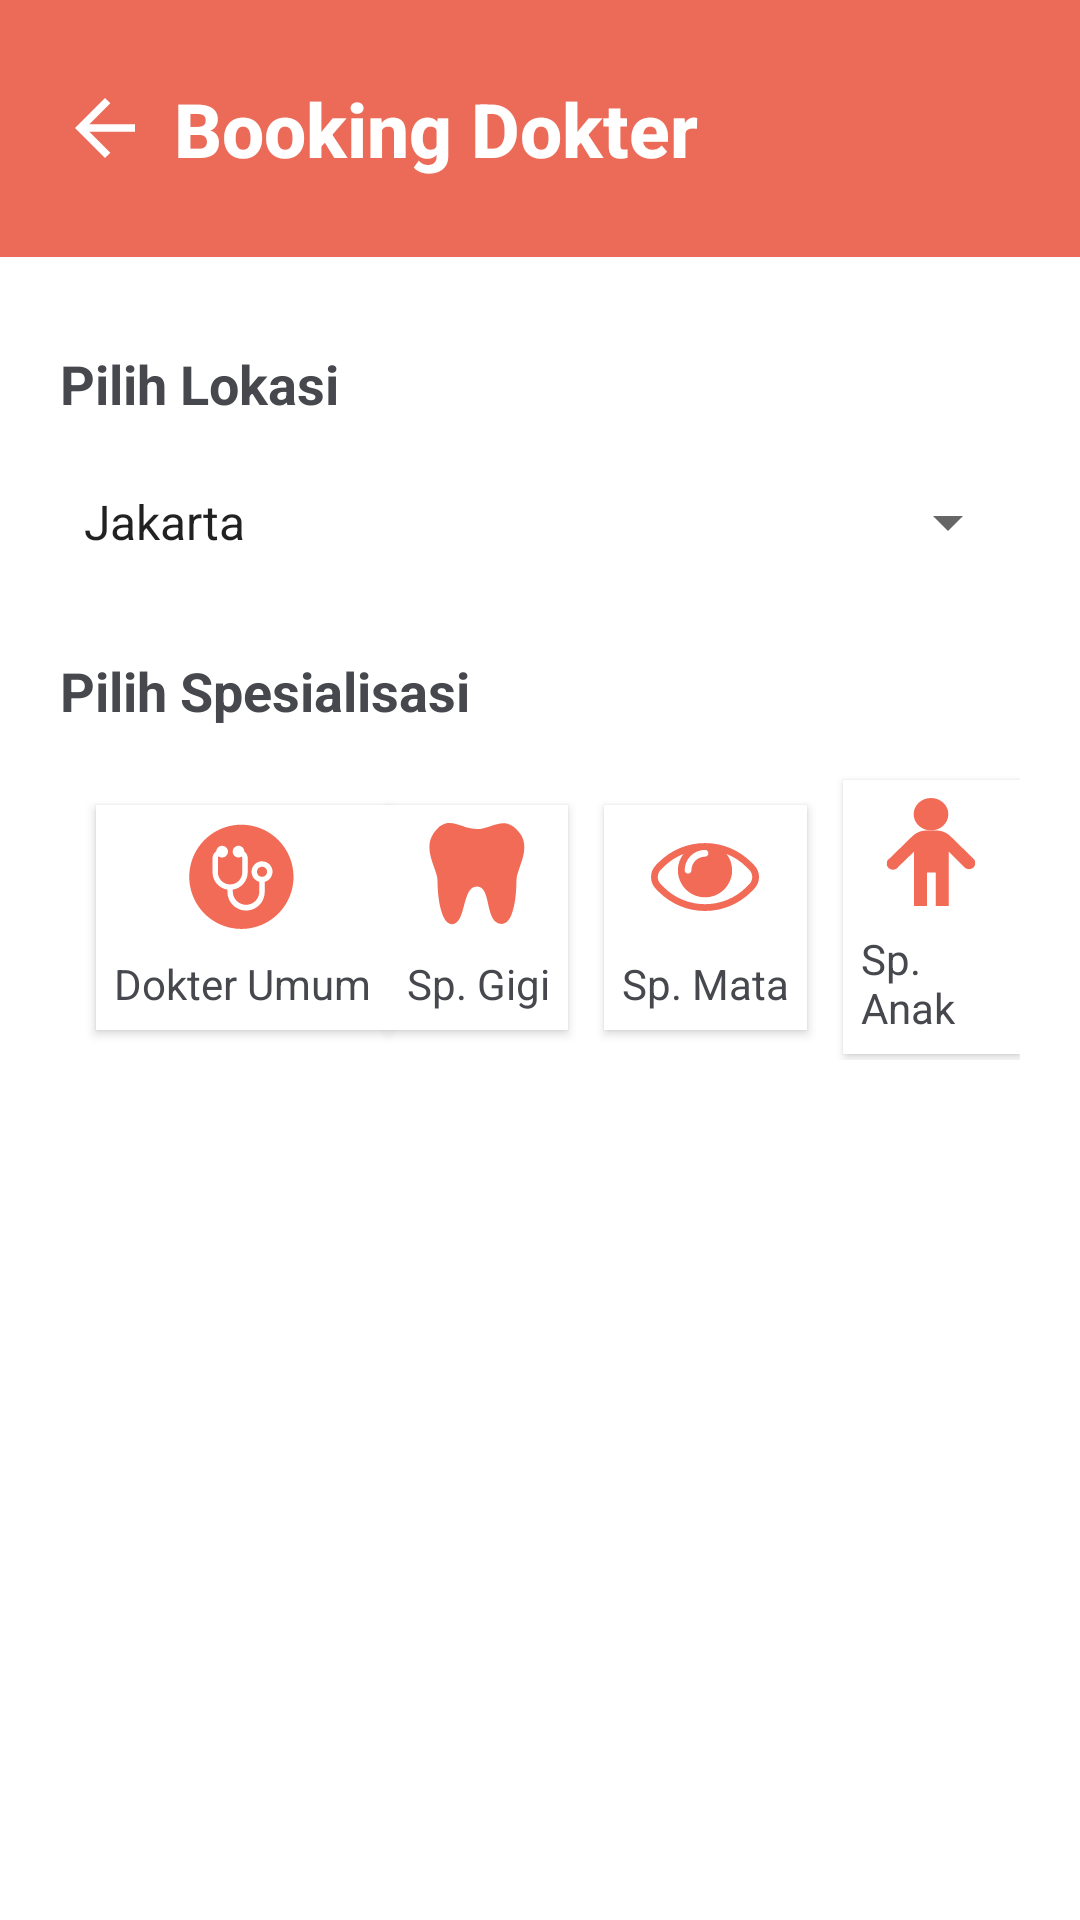

Screen size 1080px x 1920px. Icon name, then its box in pixels as bbox=[x1, y1, x2, y2]:
back: bbox=[75, 98, 135, 158]
child: bbox=[887, 798, 975, 906]
doctor: bbox=[189, 824, 294, 929]
eye: bbox=[651, 843, 759, 911]
teeth: bbox=[429, 823, 525, 924]
